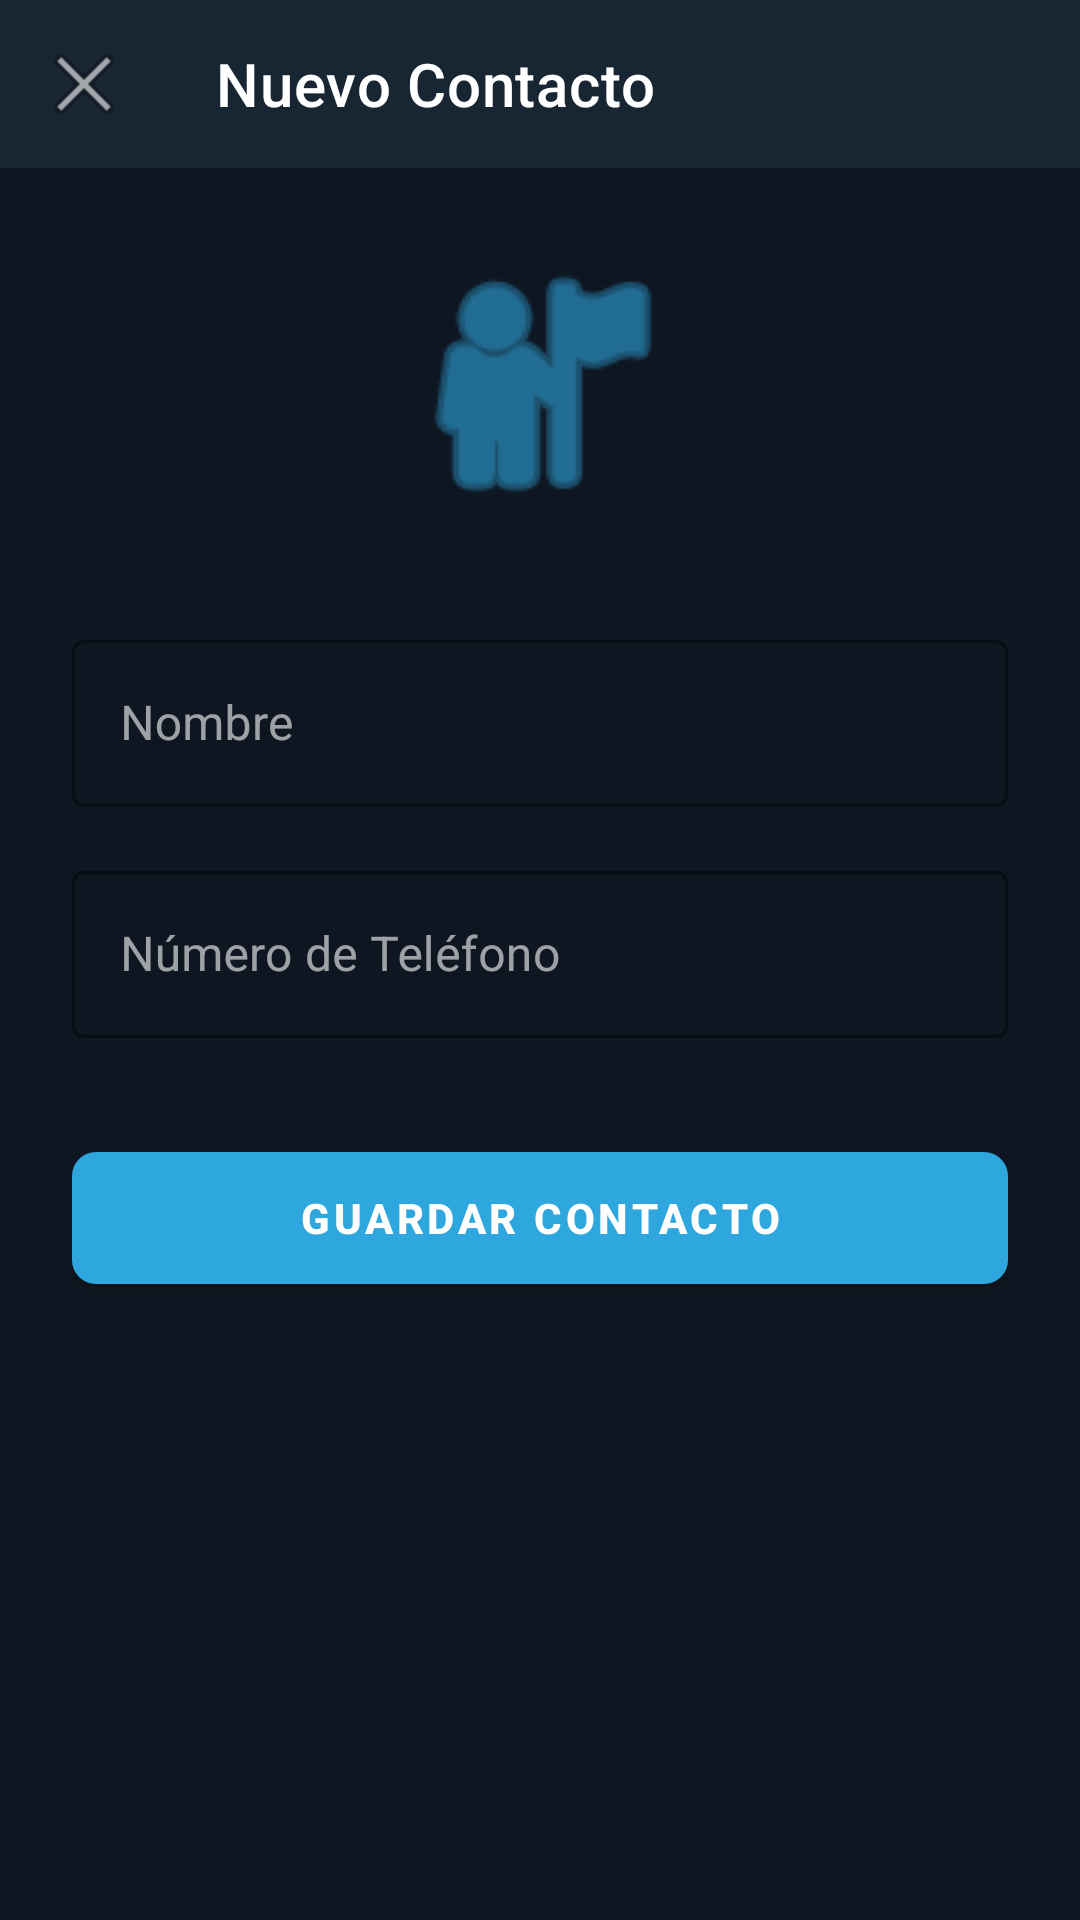

Locate icon controls on the screen. Image size 1080 × 1920, boxes as rect(x1, y1, x2, y2).
myplaces: rect(435, 277, 651, 491)
